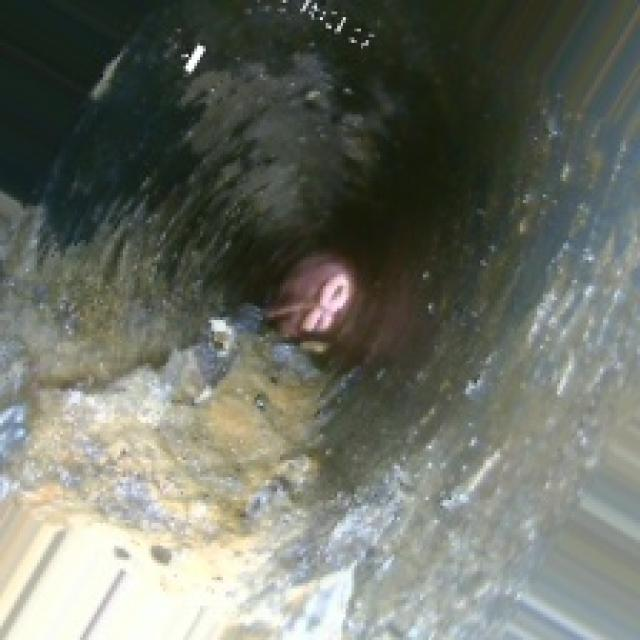sluge accumulation: (34, 323, 386, 631)
